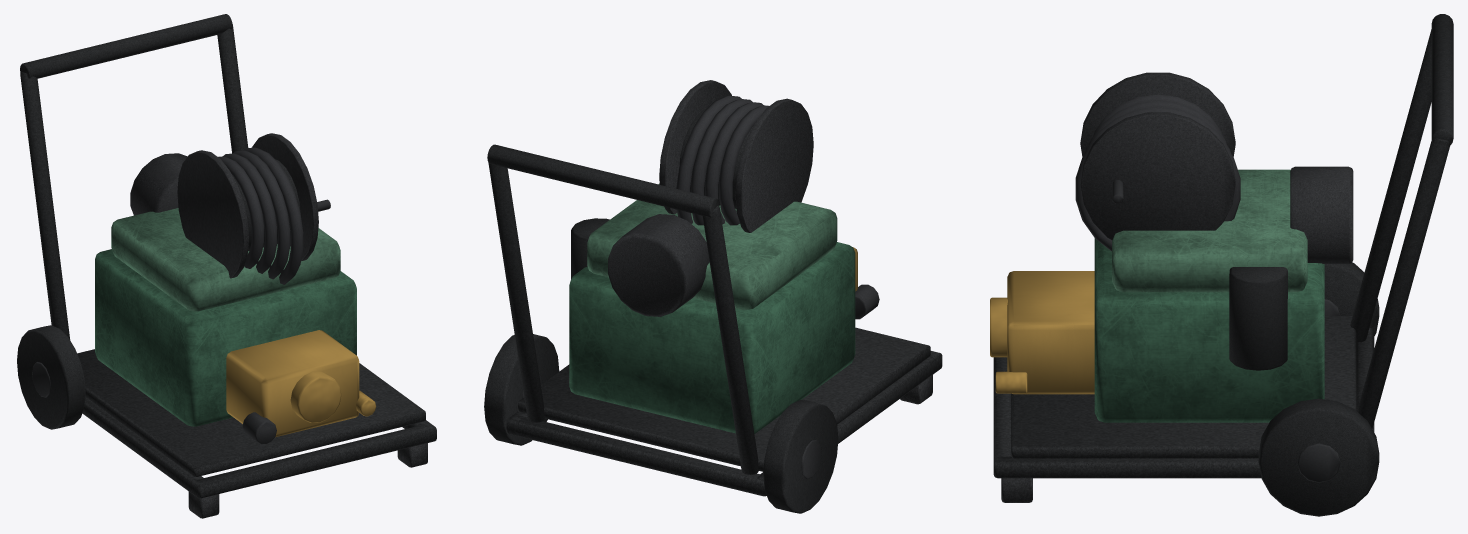
File: asset_078_pressure_washer.glb
The picture shows the model from 3 angles, left to right: view 1: azimuth 30°, elevation 25°; view 2: azimuth 150°, elevation 25°; view 3: azimuth 270°, elevation 25°; orthographic projection. The views are drawn at different scales.
Visible parts, largest first — view 1: MESH_WasherEngineAssembly, MESH_WasherChassis, MESH_WasherHoseReelAssembly, MESH_WasherWheelL, MESH_WasherHubL; view 2: MESH_WasherEngineAssembly, MESH_WasherChassis, MESH_WasherHoseReelAssembly, MESH_WasherWheelL, MESH_WasherWheelR, MESH_WasherHubL; view 3: MESH_WasherEngineAssembly, MESH_WasherChassis, MESH_WasherHoseReelAssembly, MESH_WasherWheelR, MESH_WasherWheelL, MESH_WasherHubR.
Part boxes in pixels (x1,y1,x2,y2): MESH_WasherEngineAssembly: [95, 153, 376, 444]; MESH_WasherChassis: [20, 14, 436, 518]; MESH_WasherHoseReelAssembly: [177, 133, 330, 284]; MESH_WasherWheelL: [17, 325, 85, 429]; MESH_WasherHubL: [32, 362, 50, 397]; MESH_WasherEngineAssembly: [569, 183, 879, 433]; MESH_WasherChassis: [487, 144, 942, 496]; MESH_WasherHoseReelAssembly: [659, 80, 813, 232]; MESH_WasherWheelL: [763, 400, 838, 513]; MESH_WasherWheelR: [484, 334, 559, 445]; MESH_WasherHubL: [801, 439, 821, 478]; MESH_WasherEngineAssembly: [990, 166, 1353, 422]; MESH_WasherChassis: [993, 14, 1453, 502]; MESH_WasherHoseReelAssembly: [1075, 72, 1240, 251]; MESH_WasherWheelR: [1258, 398, 1379, 516]; MESH_WasherWheelL: [1324, 262, 1379, 335]; MESH_WasherHubR: [1297, 443, 1340, 482].
Bounding box in the file's own units: 0.65 × 0.7091 × 0.809.
Materials: 7 (6 with a texture image).
